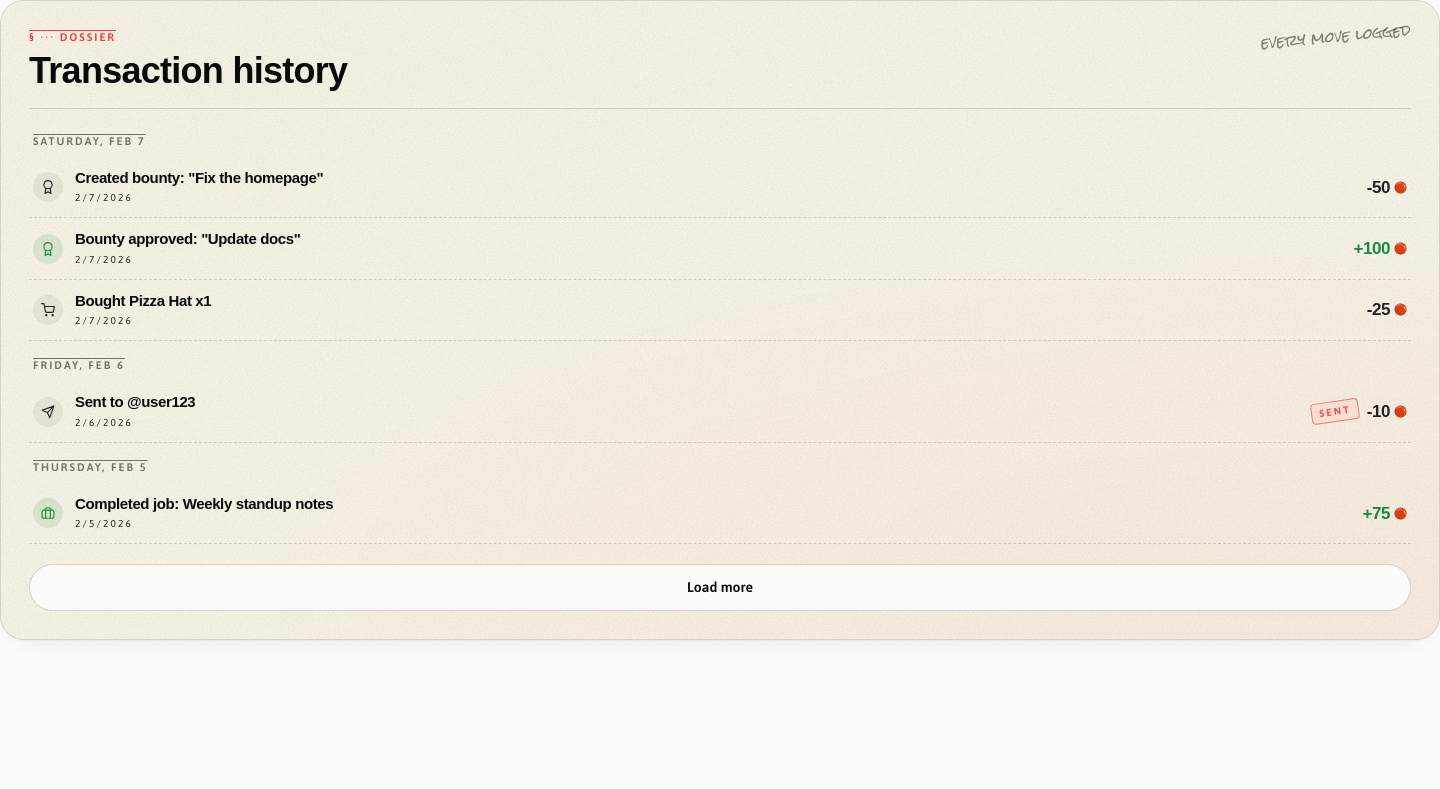
Test case: TransactionHistory › pagination › clicking "Load more" fetches next page and appends to list
Note: Click Load more
Click the button "Load more": (720, 588) [29, 564, 1411, 611]
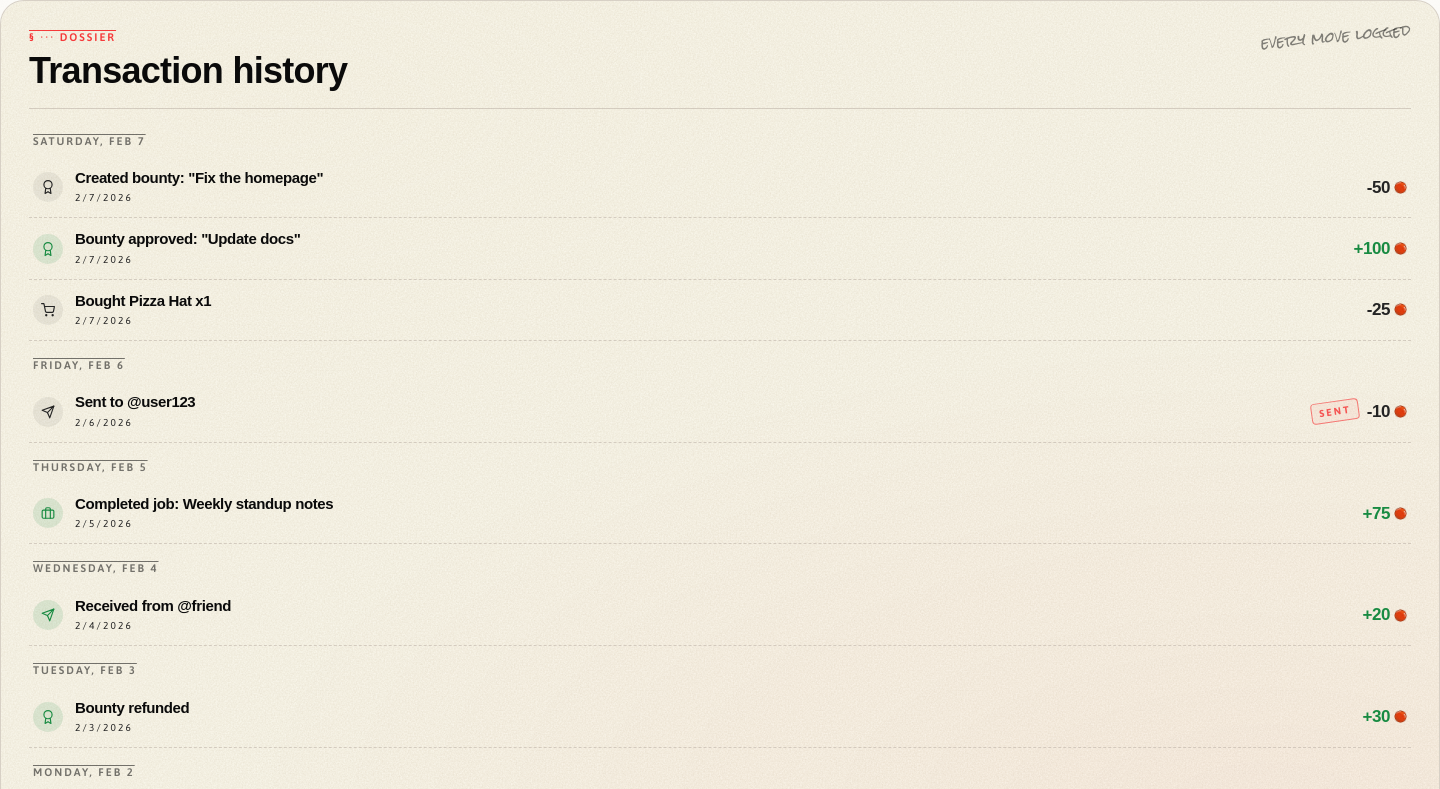
expect the text "Created bounty: \"Fix the homepage\"" is shown: met, box [75, 169, 323, 186]
expect the text "Received from @friend" is shown: met, box [75, 597, 231, 614]
expect the text "Bounty refunded" is shown: met, box [75, 699, 189, 716]
